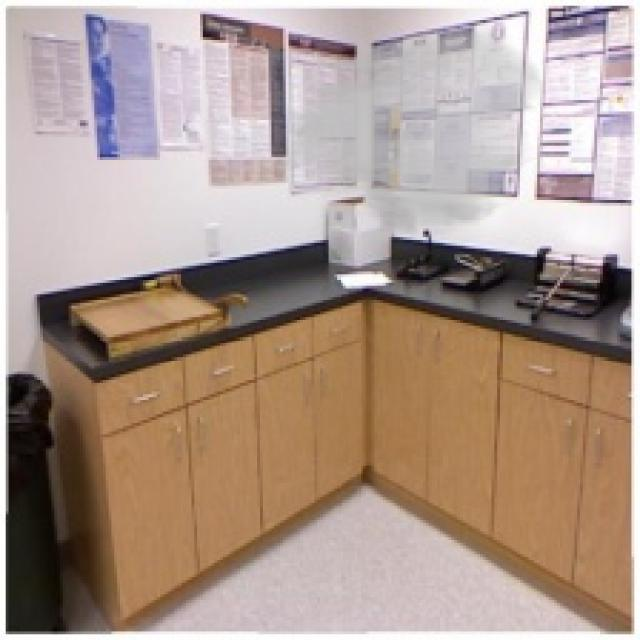Smoke: (272, 23, 548, 240)
